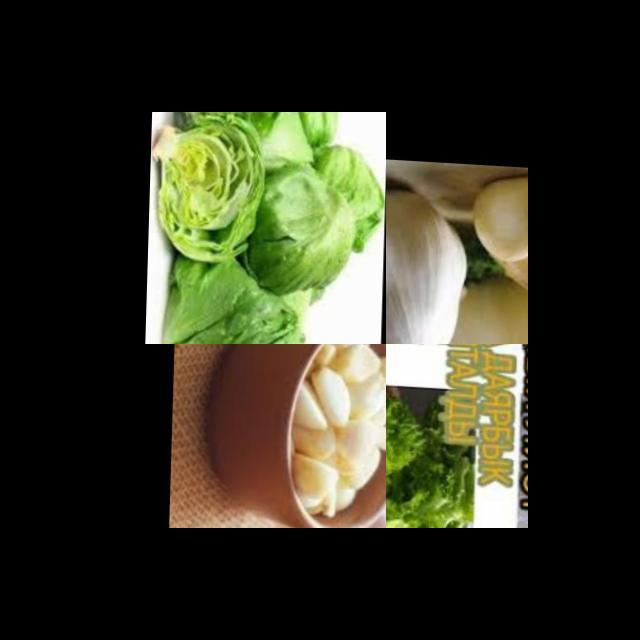garlic: (272, 344, 386, 528), (386, 177, 482, 344), (434, 265, 528, 344), (466, 167, 528, 255), (480, 202, 528, 302), (342, 464, 386, 528)
